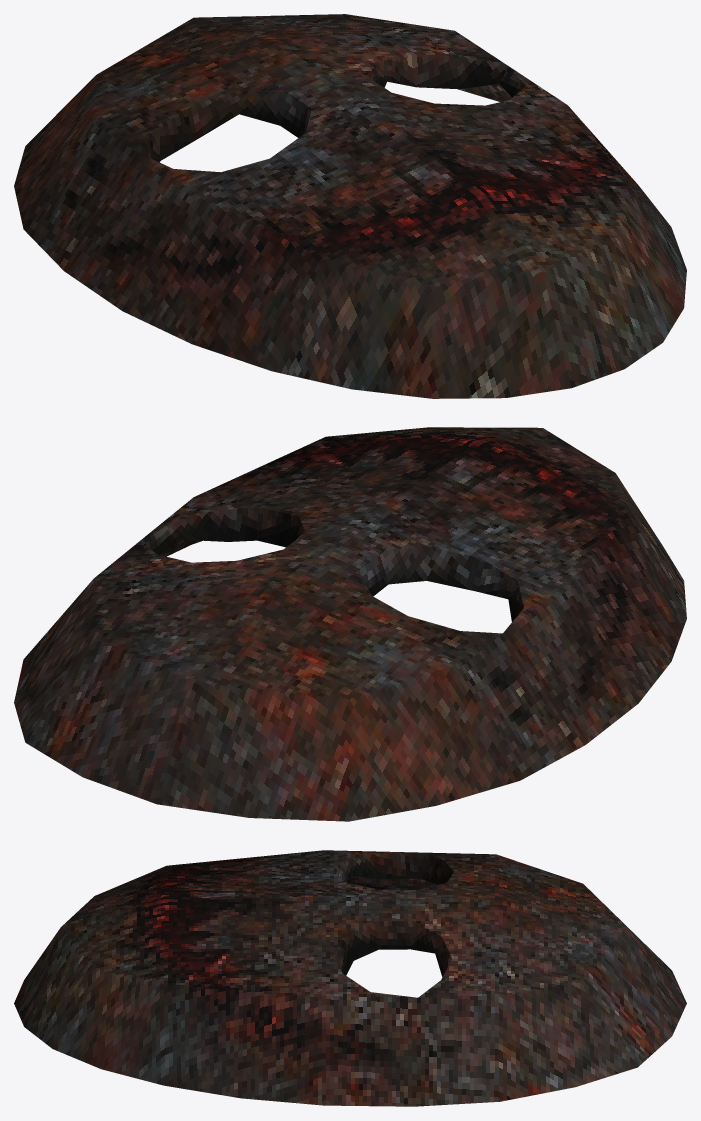
File: mask_mx_5.glb
3 renders of one model, top to bottom at view 1: azimuth 30°, elevation 25°; view 2: azimuth 150°, elevation 25°; view 3: azimuth 270°, elevation 25°, orthographic. The views are drawn at different scales.
Visible parts, largest first — view 1: mask_mx_5; view 2: mask_mx_5; view 3: mask_mx_5.
Boxes of the visible parts, left/top/right/bottom form: mask_mx_5: left=14, top=14, right=686, bottom=398; mask_mx_5: left=14, top=427, right=686, bottom=821; mask_mx_5: left=14, top=850, right=686, bottom=1106.
Bounding box in the file's own units: 0.2322 × 0.0554 × 0.3198.
1 material, 1 textured.
